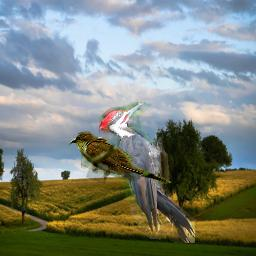Cuckoo: (69, 131, 172, 184)
Woodpecker: (99, 102, 195, 243)
